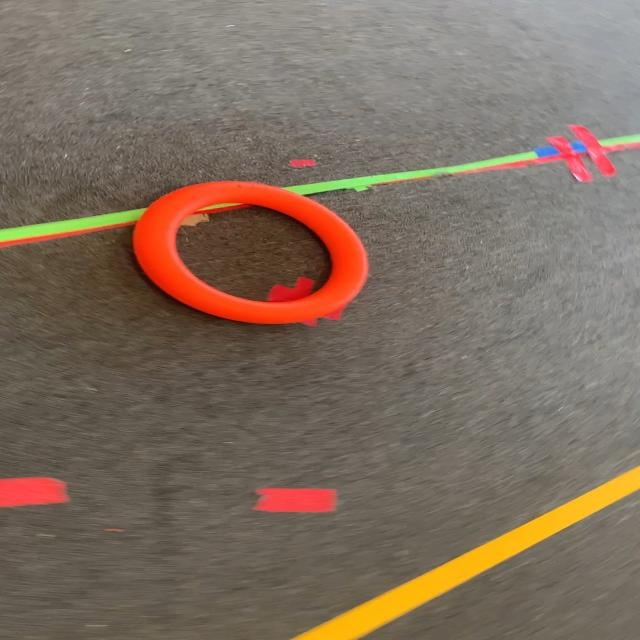notes: (132, 181, 368, 323)
